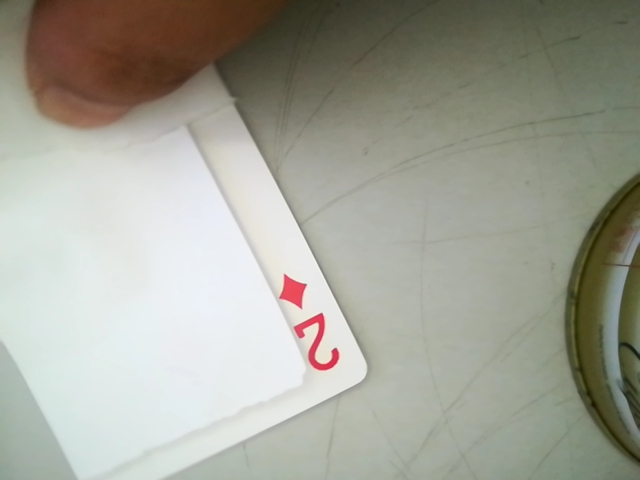fk 2: (272, 267, 352, 384)
